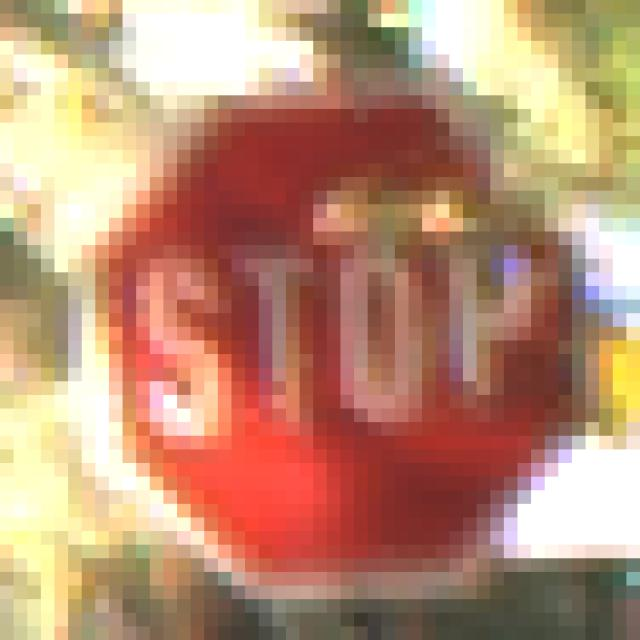STOP: (83, 69, 573, 573)
